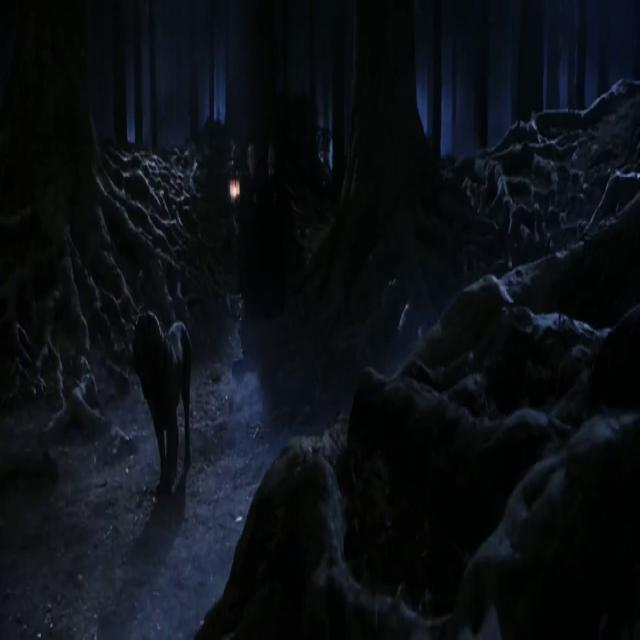dog: (102, 273, 238, 531)
